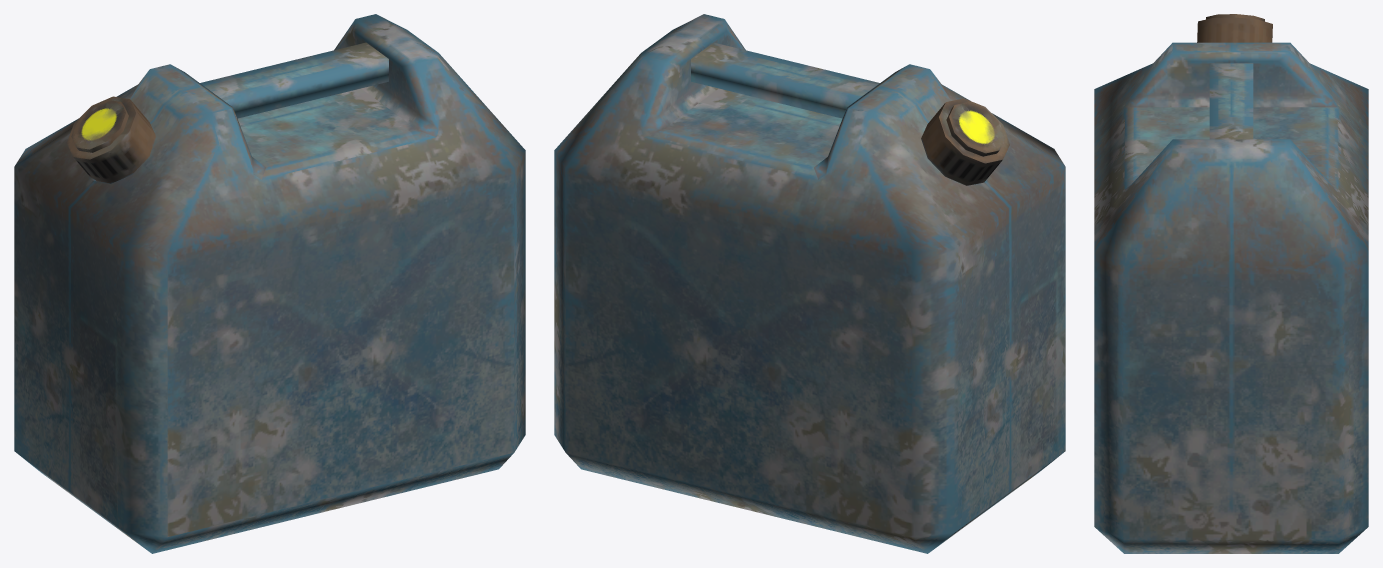
3 views of the same model, side by side, from view 1: azimuth 30°, elevation 25°; view 2: azimuth 150°, elevation 25°; view 3: azimuth 270°, elevation 25° (orthographic). The views are drawn at different scales.
Visible parts, largest first — view 1: Obj_WallaPolyTank_box5__PolyTank01; view 2: Obj_WallaPolyTank_box5__PolyTank01; view 3: Obj_WallaPolyTank_box5__PolyTank01.
Boxes of the visible parts, x1=… form: Obj_WallaPolyTank_box5__PolyTank01: x1=14, y1=14, x2=525, y2=553; Obj_WallaPolyTank_box5__PolyTank01: x1=554, y1=14, x2=1065, y2=553; Obj_WallaPolyTank_box5__PolyTank01: x1=1094, y1=14, x2=1368, y2=553.
Size of the model in its own units: 1.2 by 1.16 by 0.7377.
Materials: 1 (1 with a texture image).
